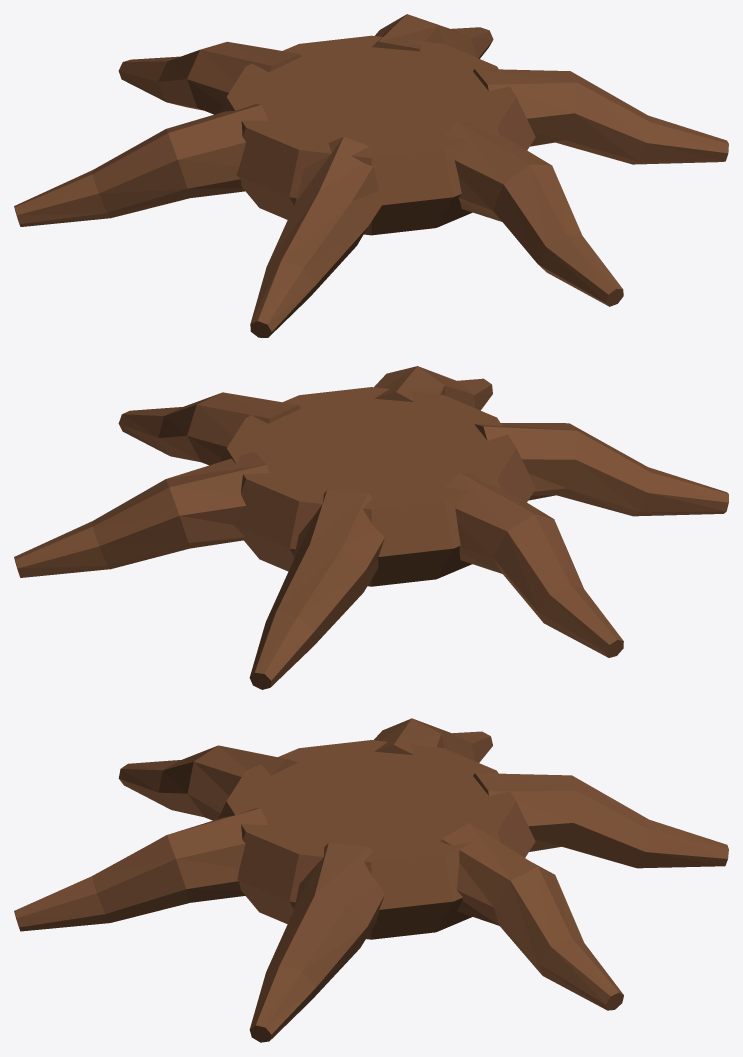
The model's file is MangroveRoot.obj.
The picture shows the model from 3 angles, top to bottom: view 1: azimuth 30°, elevation 25°; view 2: azimuth 150°, elevation 25°; view 3: azimuth 270°, elevation 25°; orthographic projection.
Parts seen in each view (by area): view 1: MangroveRoot_MangroveRootRoot; view 2: MangroveRoot_MangroveRootRoot; view 3: MangroveRoot_MangroveRootRoot.
Boxes of the visible parts, <box> form: MangroveRoot_MangroveRootRoot: <box>14,14,728,337</box>; MangroveRoot_MangroveRootRoot: <box>14,366,728,689</box>; MangroveRoot_MangroveRootRoot: <box>14,718,728,1042</box>.
Bounding box in the file's own units: 3.62 × 0.6 × 3.7.
